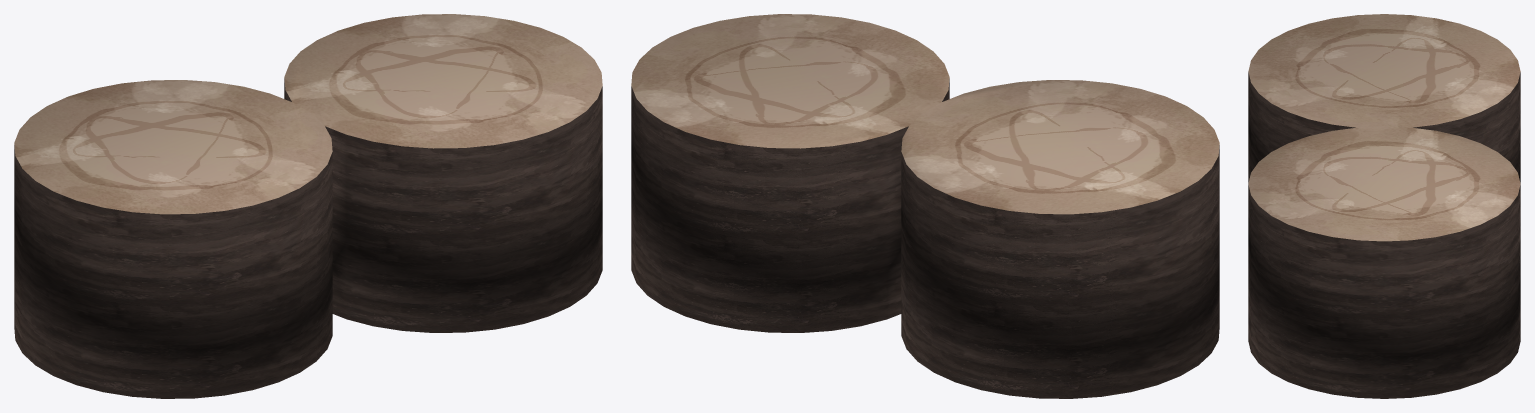
File: crafting.fbx
3 views of the same model, side by side, from view 1: azimuth 30°, elevation 25°; view 2: azimuth 150°, elevation 25°; view 3: azimuth 270°, elevation 25° (orthographic). The views are drawn at different scales.
Parts seen in each view (by area): view 1: Cylinder.002; view 2: Cylinder.002; view 3: Cylinder.002.
Boxes of the visible parts, <box> form: Cylinder.002: <box>14,14,602,398</box>; Cylinder.002: <box>631,14,1219,398</box>; Cylinder.002: <box>1248,14,1520,398</box>.
Bounding box in the file's own units: 198 × 63.85 × 100.
